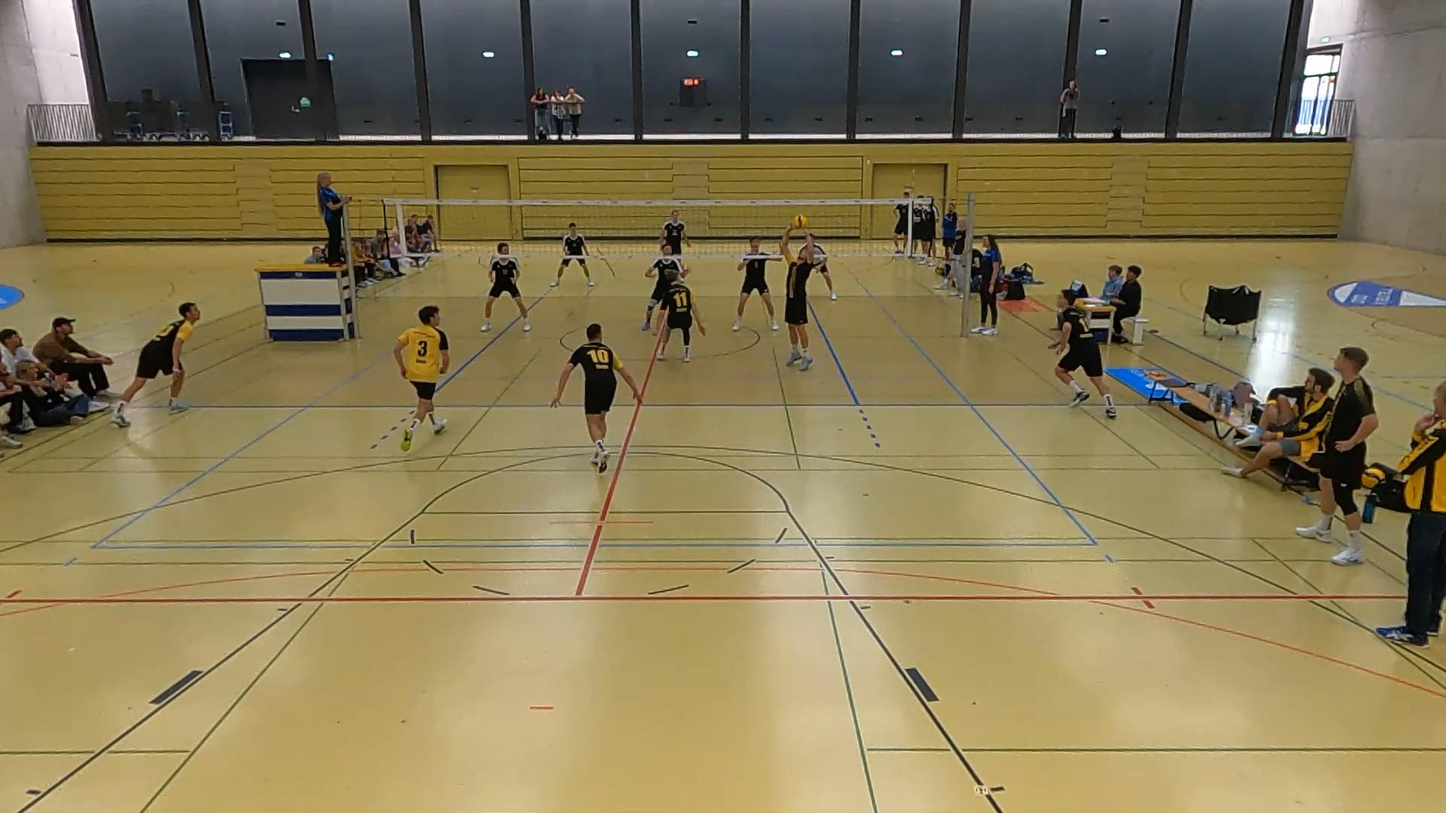Player: (551, 324, 641, 473), (111, 302, 200, 427), (1050, 289, 1116, 418), (393, 306, 449, 451), (480, 242, 529, 331), (656, 276, 706, 361), (732, 239, 778, 330), (642, 244, 687, 330), (549, 223, 593, 287), (807, 231, 837, 300), (660, 209, 691, 254)
Set: (768, 227, 831, 371)
ball: (791, 213, 806, 231)
